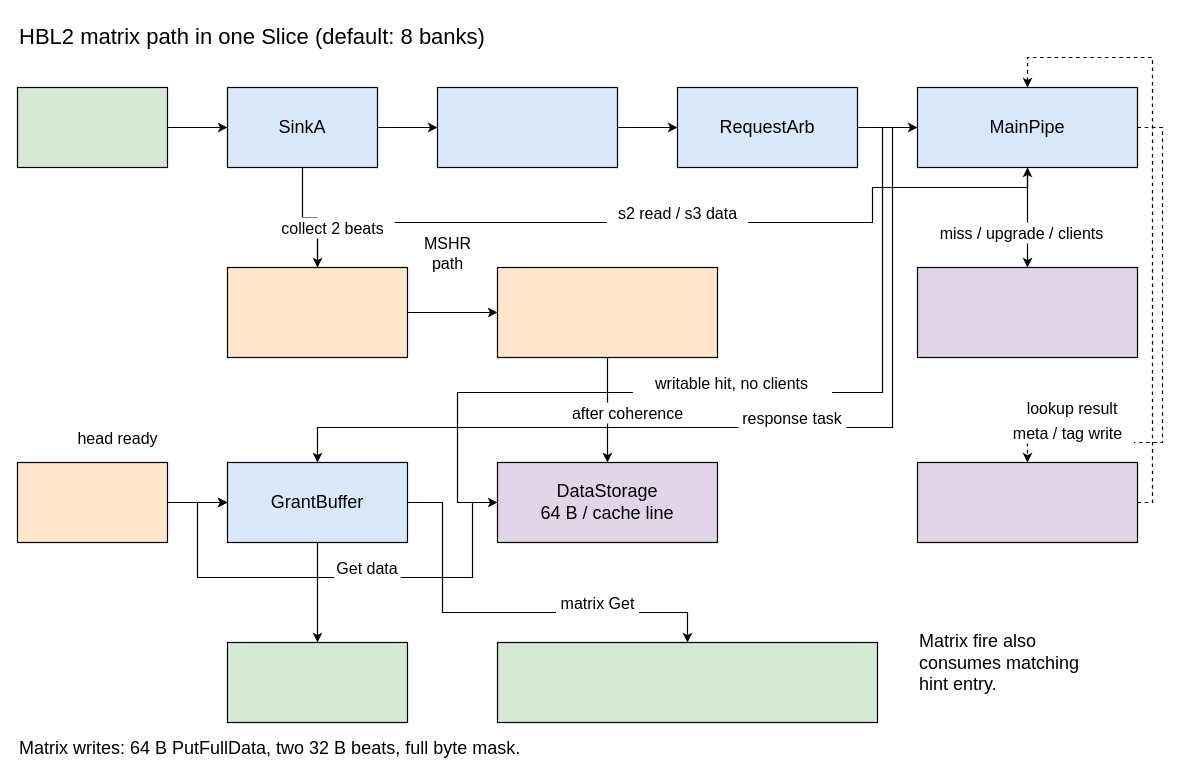
Image size: 1189x777. Some labels were removed from this diagram. The shapes that lost their labels are listed below. From the top down, each one's centre as x and y in pixels, then its label:
[92,127]: TL-A 32 B / beat
[527,127]: RequestBuffer
[317,312]: PutBuffer (4) 2 x 32 B / entry
[607,312]: RefillBuffer new full-line Put data
[1027,312]: MSHR / MSHRCtl Probe / MakeUnique
[92,502]: CustomL1Hint paired queue
[1027,502]: Directory tag / state / clients
[317,682]: TL-D Put AccessAck
[687,682]: MatrixDataOut Get: 64 B / handshake + AmeIndex
